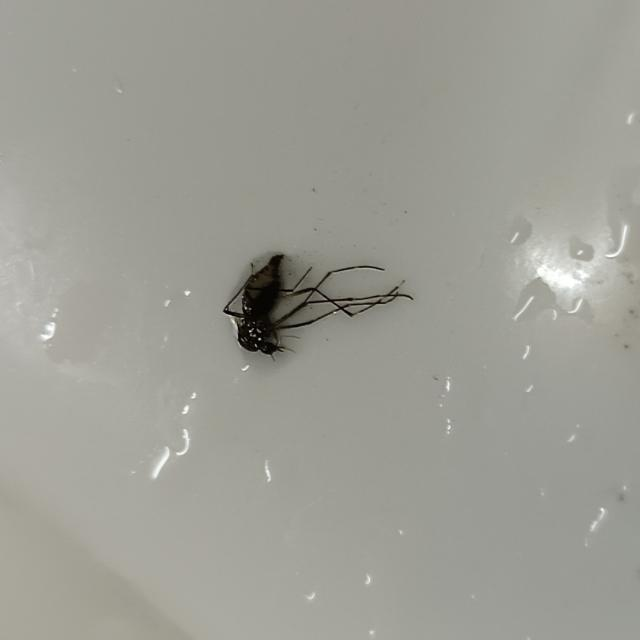albopictus: (221, 244, 400, 365)
